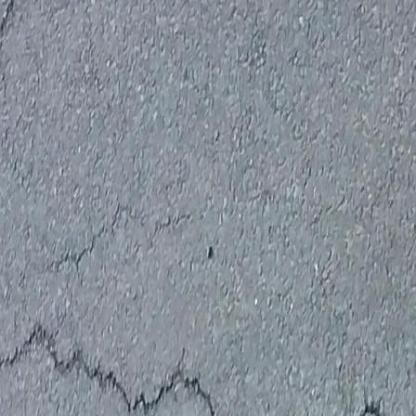Cracks: (0, 311, 227, 416), (39, 195, 209, 274), (343, 382, 399, 416), (1, 0, 42, 46)
